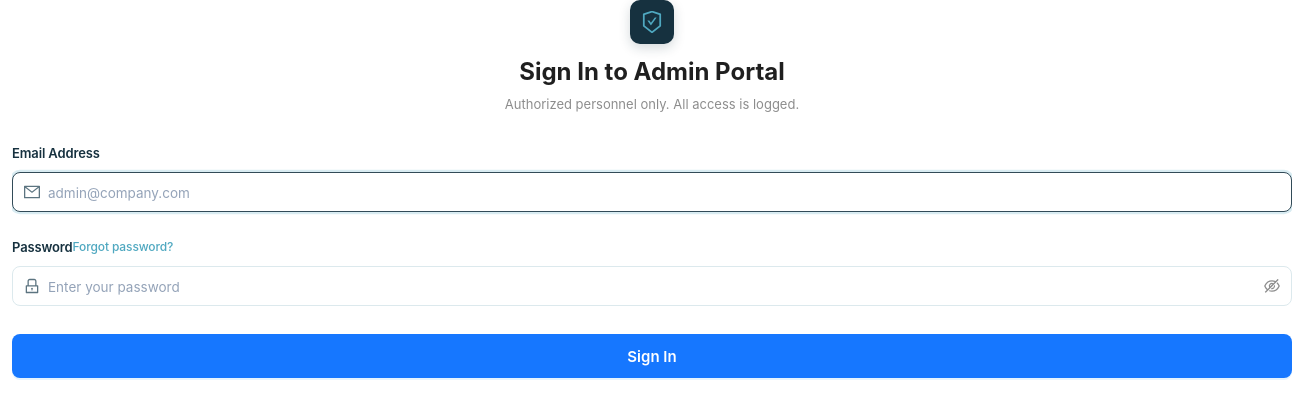
it: RecruiTrain Admin Frontend Suite › 1. Form Controls & Validation › displays validation errors when submitting empty login form
What coordinates should you click on to do the following:
click the button "Sign In"
I would click on:
 (652, 356)
Its box is [12,334,1292,378].
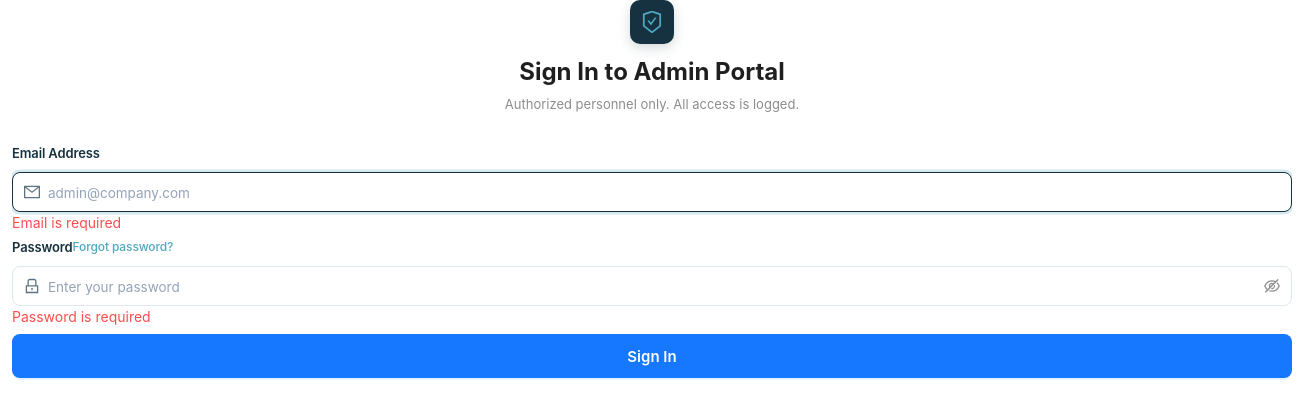
Expected: the text "Email is required" is shown, [12,214,121,231]
Expected: the text "Password is required" is shown, [12,308,151,325]
